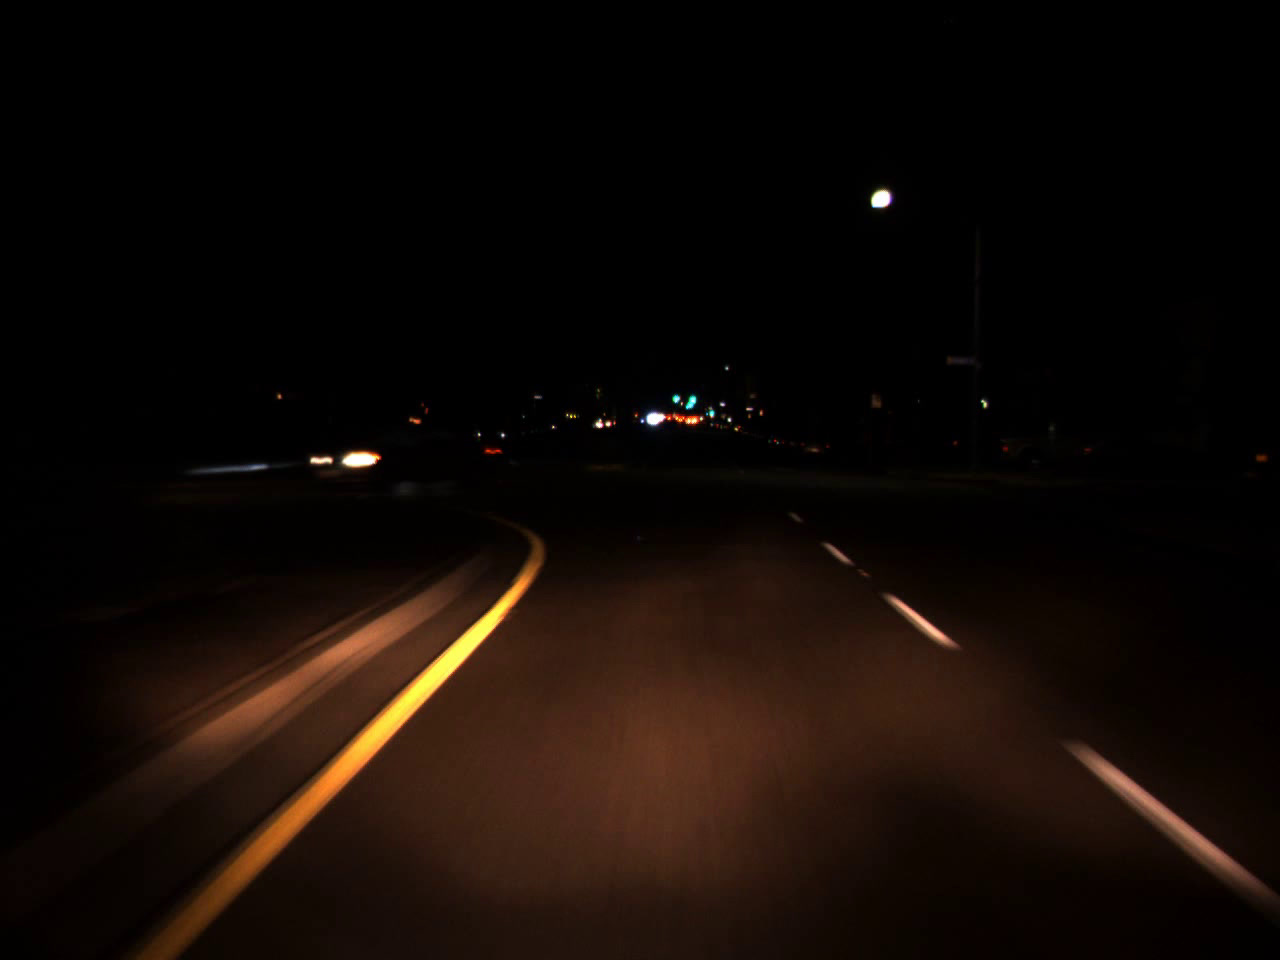go: (684, 385, 698, 409), (672, 388, 679, 403), (708, 404, 715, 416)
